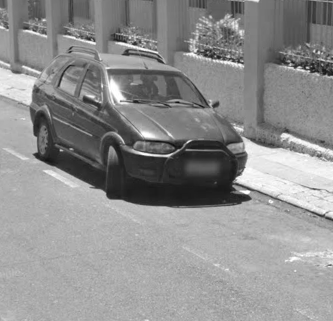car: (28, 34, 250, 214)
